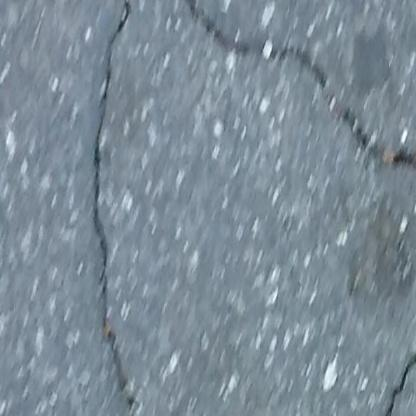Cracks: (179, 0, 416, 176), (87, 0, 143, 416), (377, 298, 416, 416)
